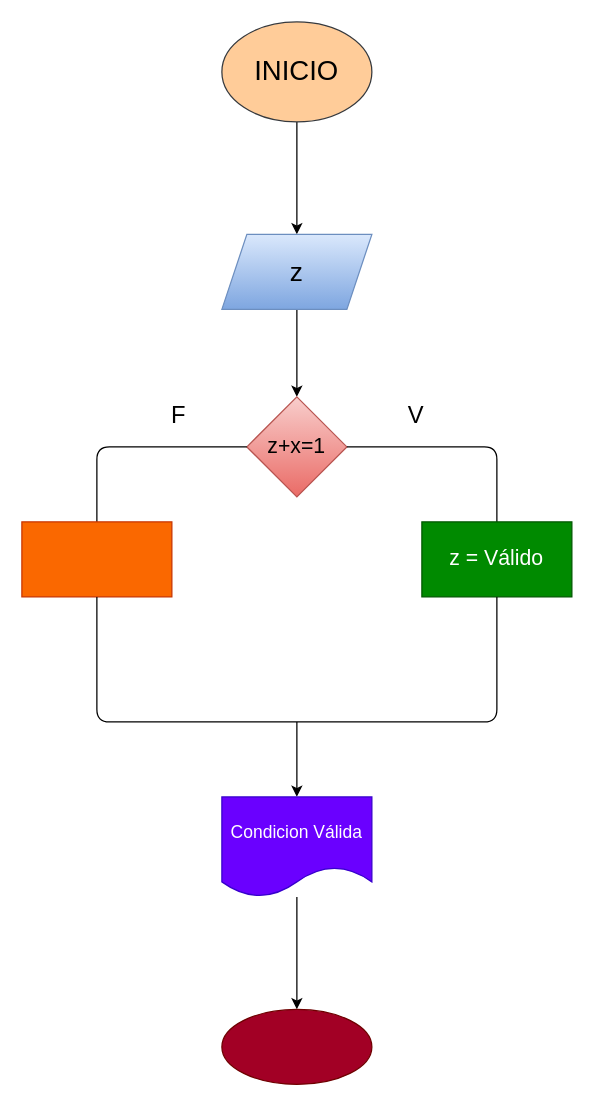
This 594x1106 diagram has some shape labels left out. Each missing label, with the centre of its shape:
FIN: [296,1046]
z = No aplica: [96,559]
